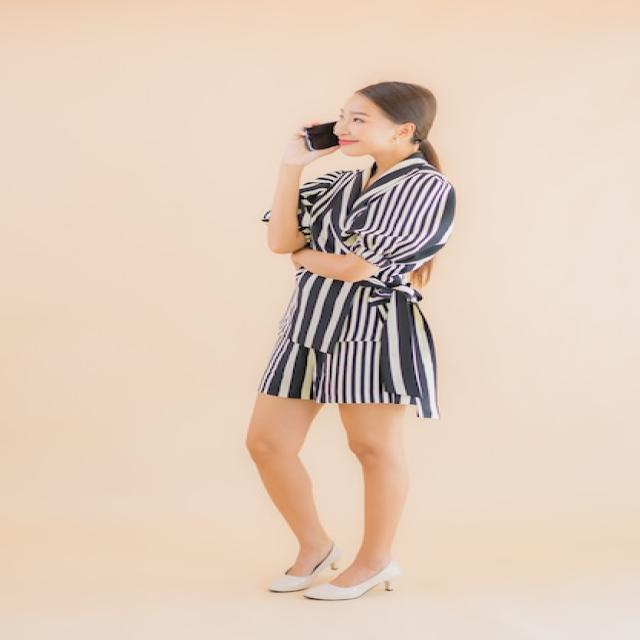Person: (246, 83, 454, 601)
